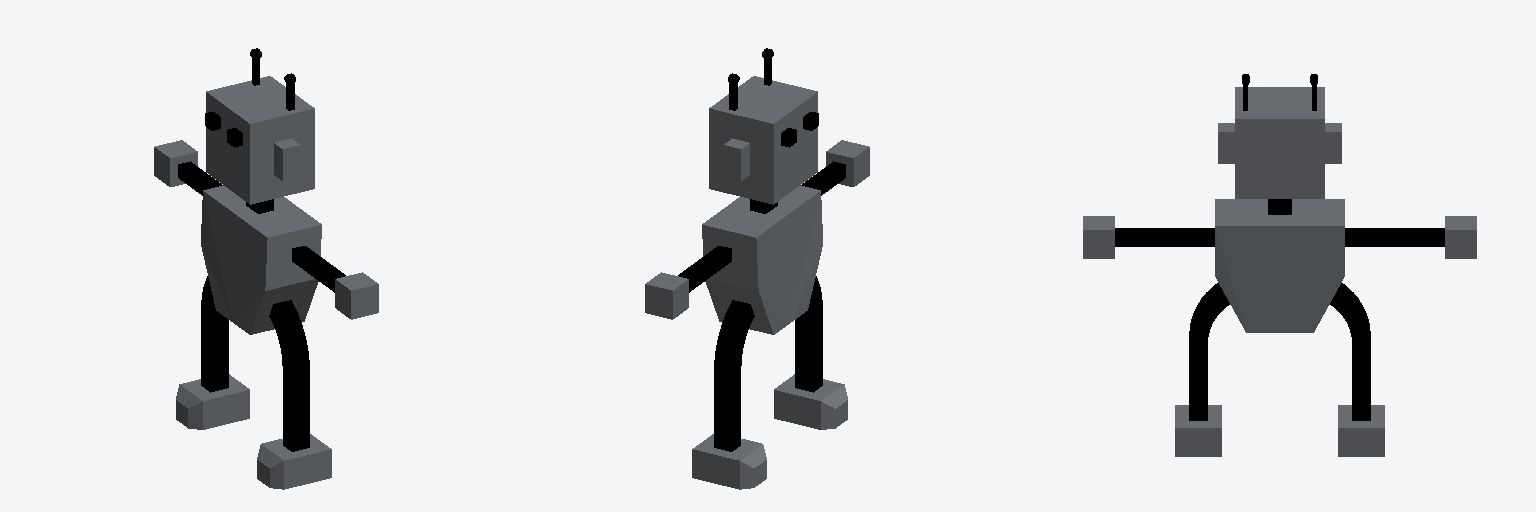
3 renders of one model, left to right at view 1: azimuth 30°, elevation 25°; view 2: azimuth 150°, elevation 25°; view 3: azimuth 270°, elevation 25°, orthographic.
Visible parts, largest first — view 1: Cube; view 2: Cube; view 3: Cube.
Part boxes in pixels (bbox=[...]): Cube: bbox=[154, 48, 378, 489]; Cube: bbox=[645, 48, 869, 489]; Cube: bbox=[1083, 74, 1476, 456].
Bounding box in the file's own units: 0.933 × 4.63 × 4.36.
Materials: 1 (1 with a texture image).